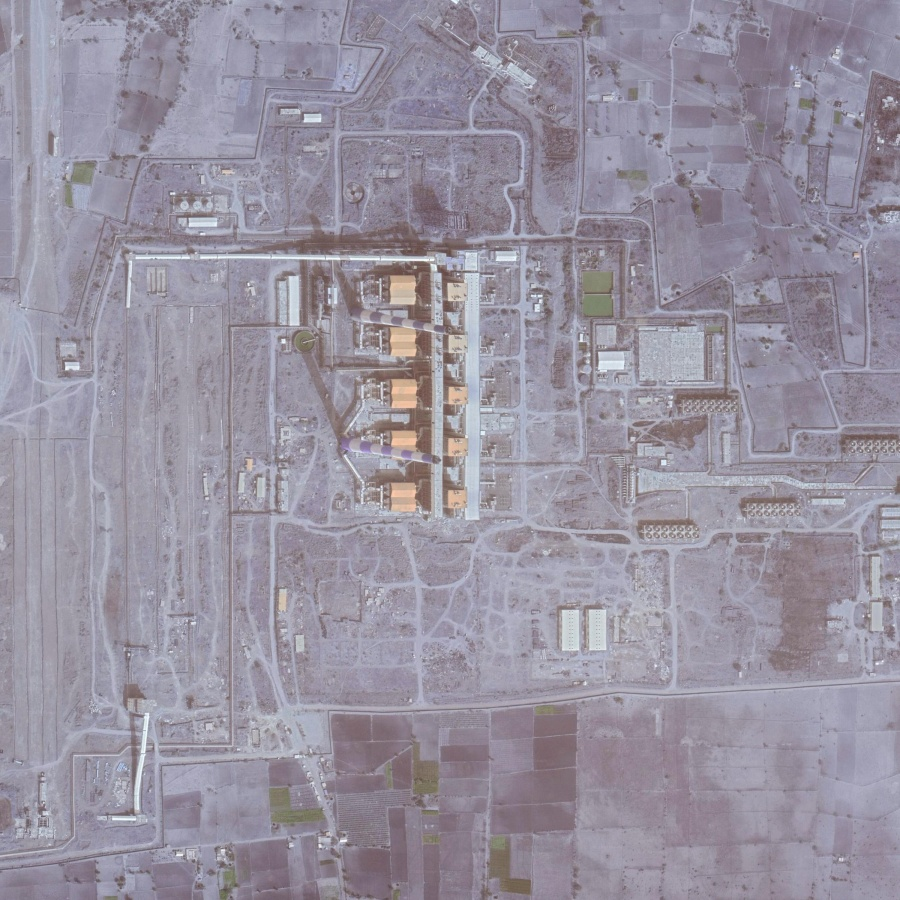PowerPlant: (111, 242, 740, 654)
